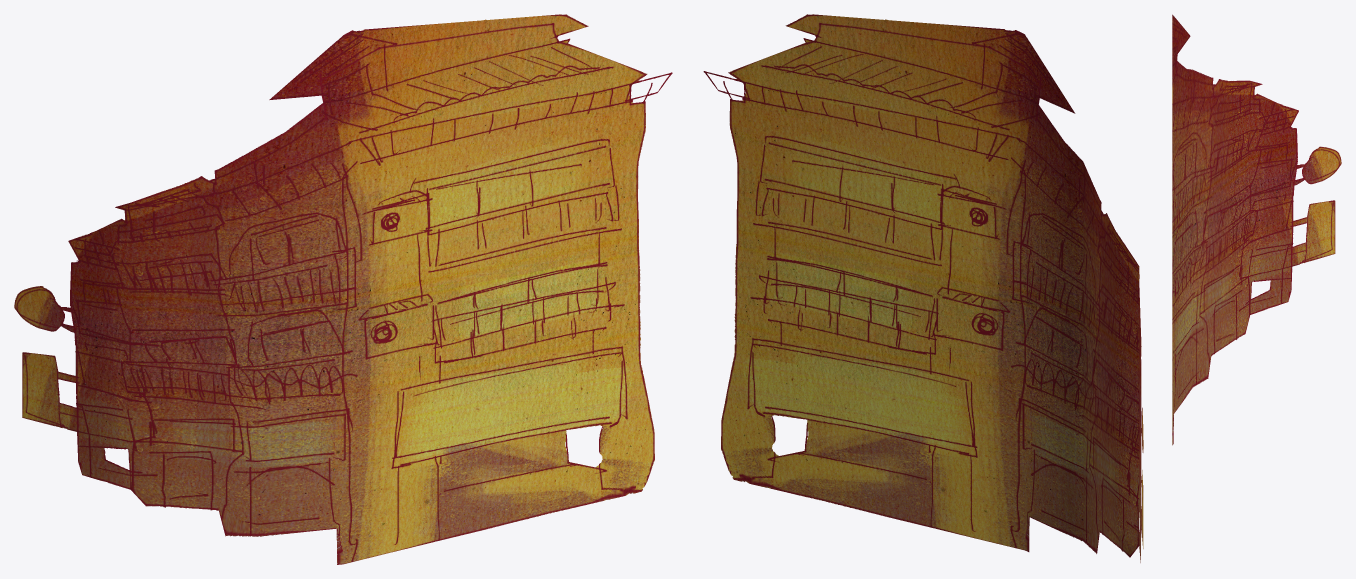
File: 03_front_bld_02.fbx
3 views of the same model, side by side, from view 1: azimuth 30°, elevation 25°; view 2: azimuth 150°, elevation 25°; view 3: azimuth 270°, elevation 25° (orthographic). The views are drawn at different scales.
Visible parts, largest first — view 1: 03_前_房子_02; view 2: 03_前_房子_02; view 3: 03_前_房子_02.
Part boxes in pixels (<box>): 03_前_房子_02: <box>14,14,672,564</box>; 03_前_房子_02: <box>703,14,1143,562</box>; 03_前_房子_02: <box>1172,14,1341,445</box>.
Bounding box in the file's own units: 222 × 203 × 71.67.
Materials: 1 (1 with a texture image).
